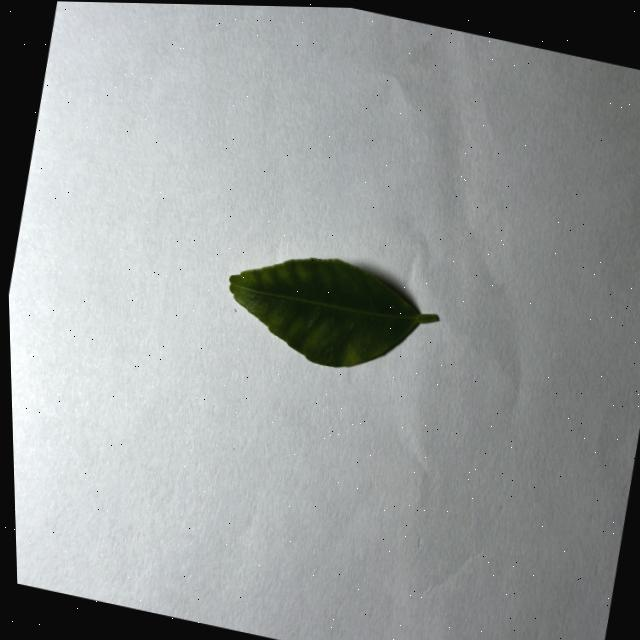greening: (229, 258, 437, 367)
